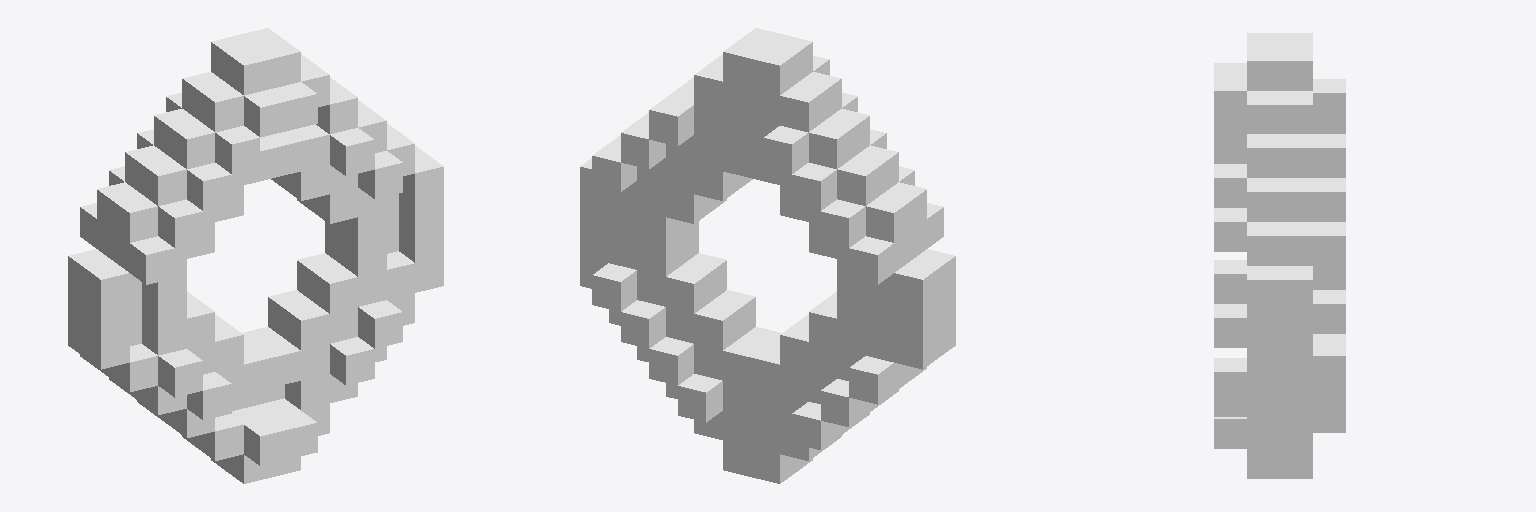
3 views of the same model, side by side, from view 1: azimuth 30°, elevation 25°; view 2: azimuth 150°, elevation 25°; view 3: azimuth 270°, elevation 25° (orthographic).
Visible parts, largest first — view 1: ObjObject.002; view 2: ObjObject.002; view 3: ObjObject.002.
Part boxes in pixels (x1,y1,x2,y2): ObjObject.002: (68, 28, 443, 483); ObjObject.002: (580, 28, 955, 483); ObjObject.002: (1214, 33, 1345, 478).
Size of the model in its own units: 1.2 by 1.4 by 0.4.